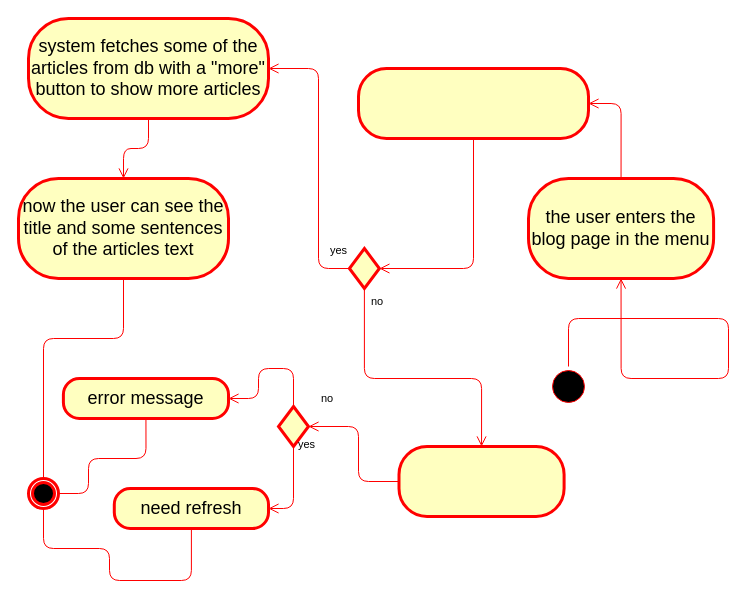
The diagram is 756 pixels wide and 599 high, and some of its shapes have lost their labels. The shapes that lost their labels are listed below. From the top down, each one's centre as x and y in pixels, then its label:
At (x=473, y=103): "checks if the credentials of user exists or are valid".
At (x=481, y=481): "check if the access token is expired".
